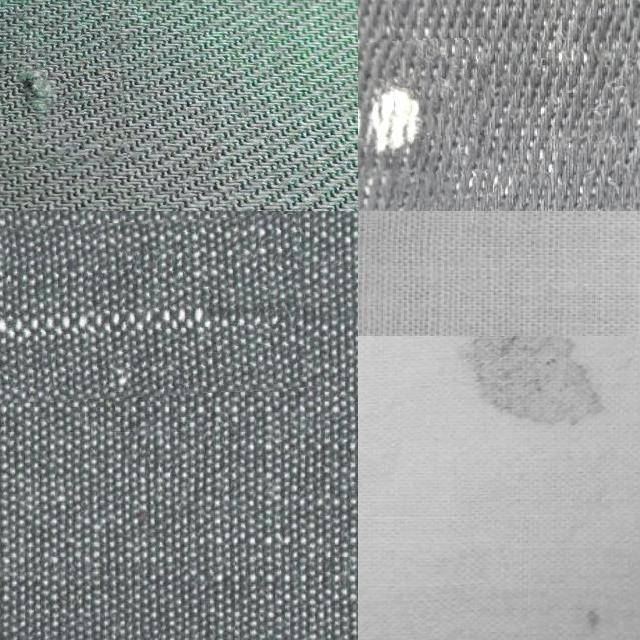Hole: (434, 336, 630, 461), (464, 543, 640, 640)
Thread_other: (0, 218, 306, 403), (358, 40, 492, 211)
